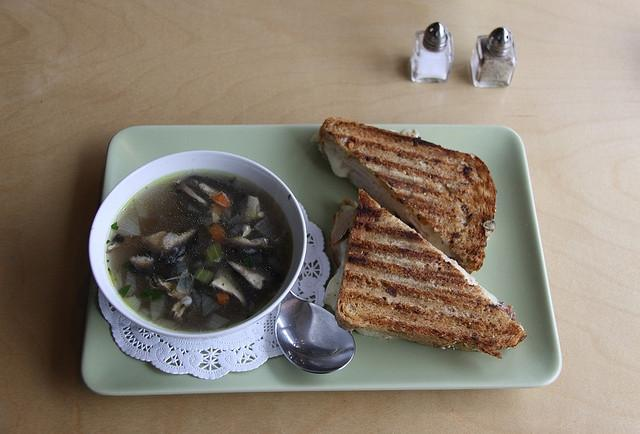mushroom: (186, 176, 238, 208), (158, 228, 200, 264), (228, 262, 264, 290), (238, 194, 266, 224), (228, 225, 266, 247), (158, 276, 186, 300), (130, 256, 157, 276)
